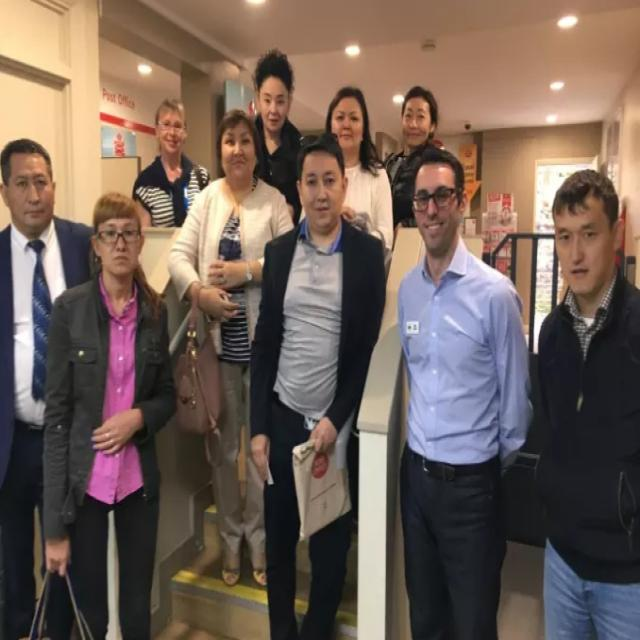body: (244, 124, 388, 639), (389, 144, 533, 639), (39, 188, 180, 640), (164, 108, 296, 590), (535, 166, 640, 640), (0, 137, 95, 640), (323, 86, 395, 254), (130, 98, 213, 232), (247, 45, 306, 228), (383, 79, 441, 251)
